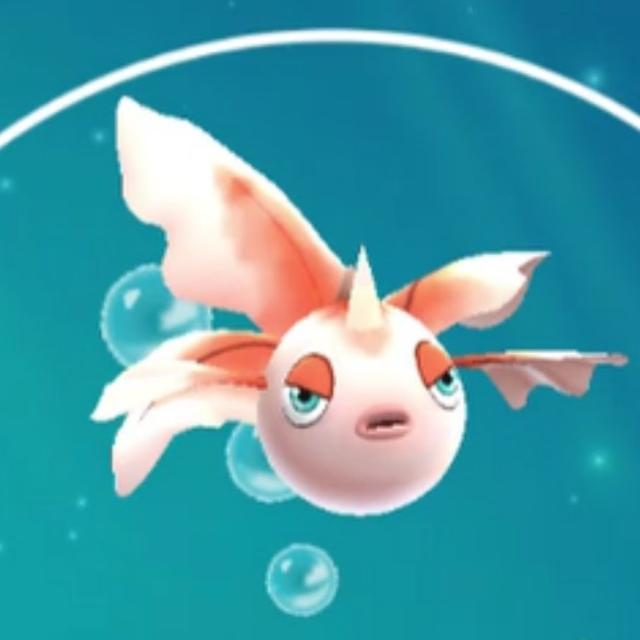Goldeen: (106, 234, 553, 512)
